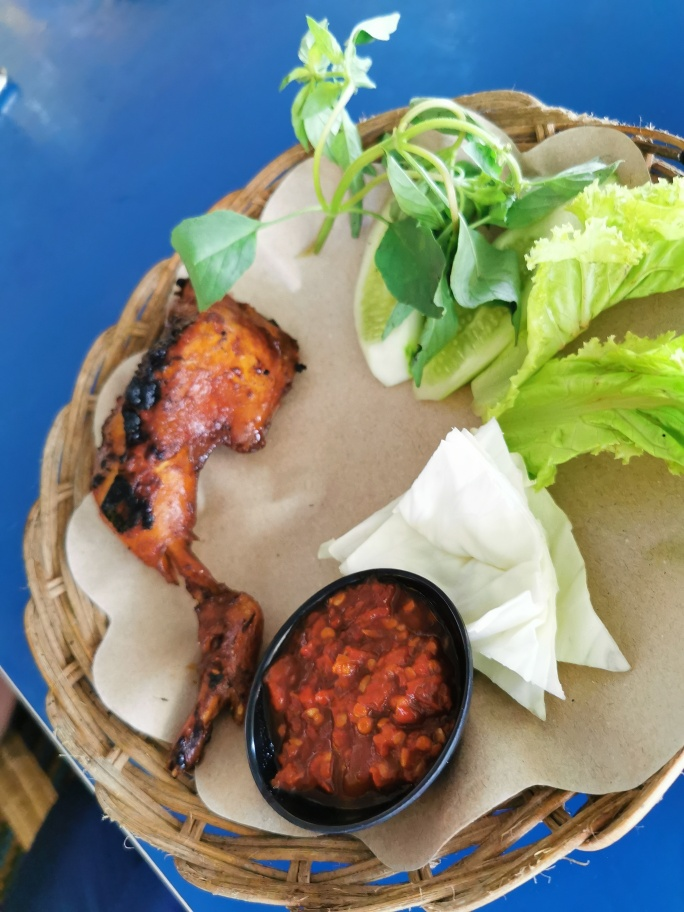ayam bakar: (92, 271, 306, 771)
